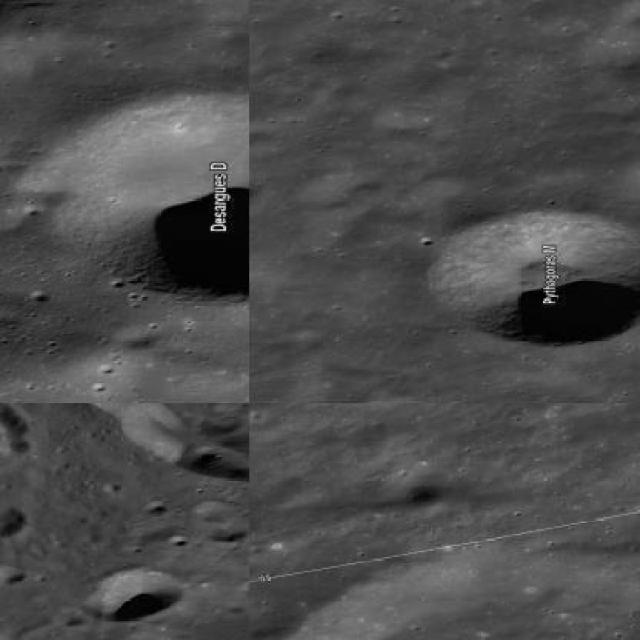crater: (23, 91, 248, 298), (256, 554, 638, 638), (431, 212, 638, 343), (49, 403, 248, 482), (83, 568, 188, 622)
